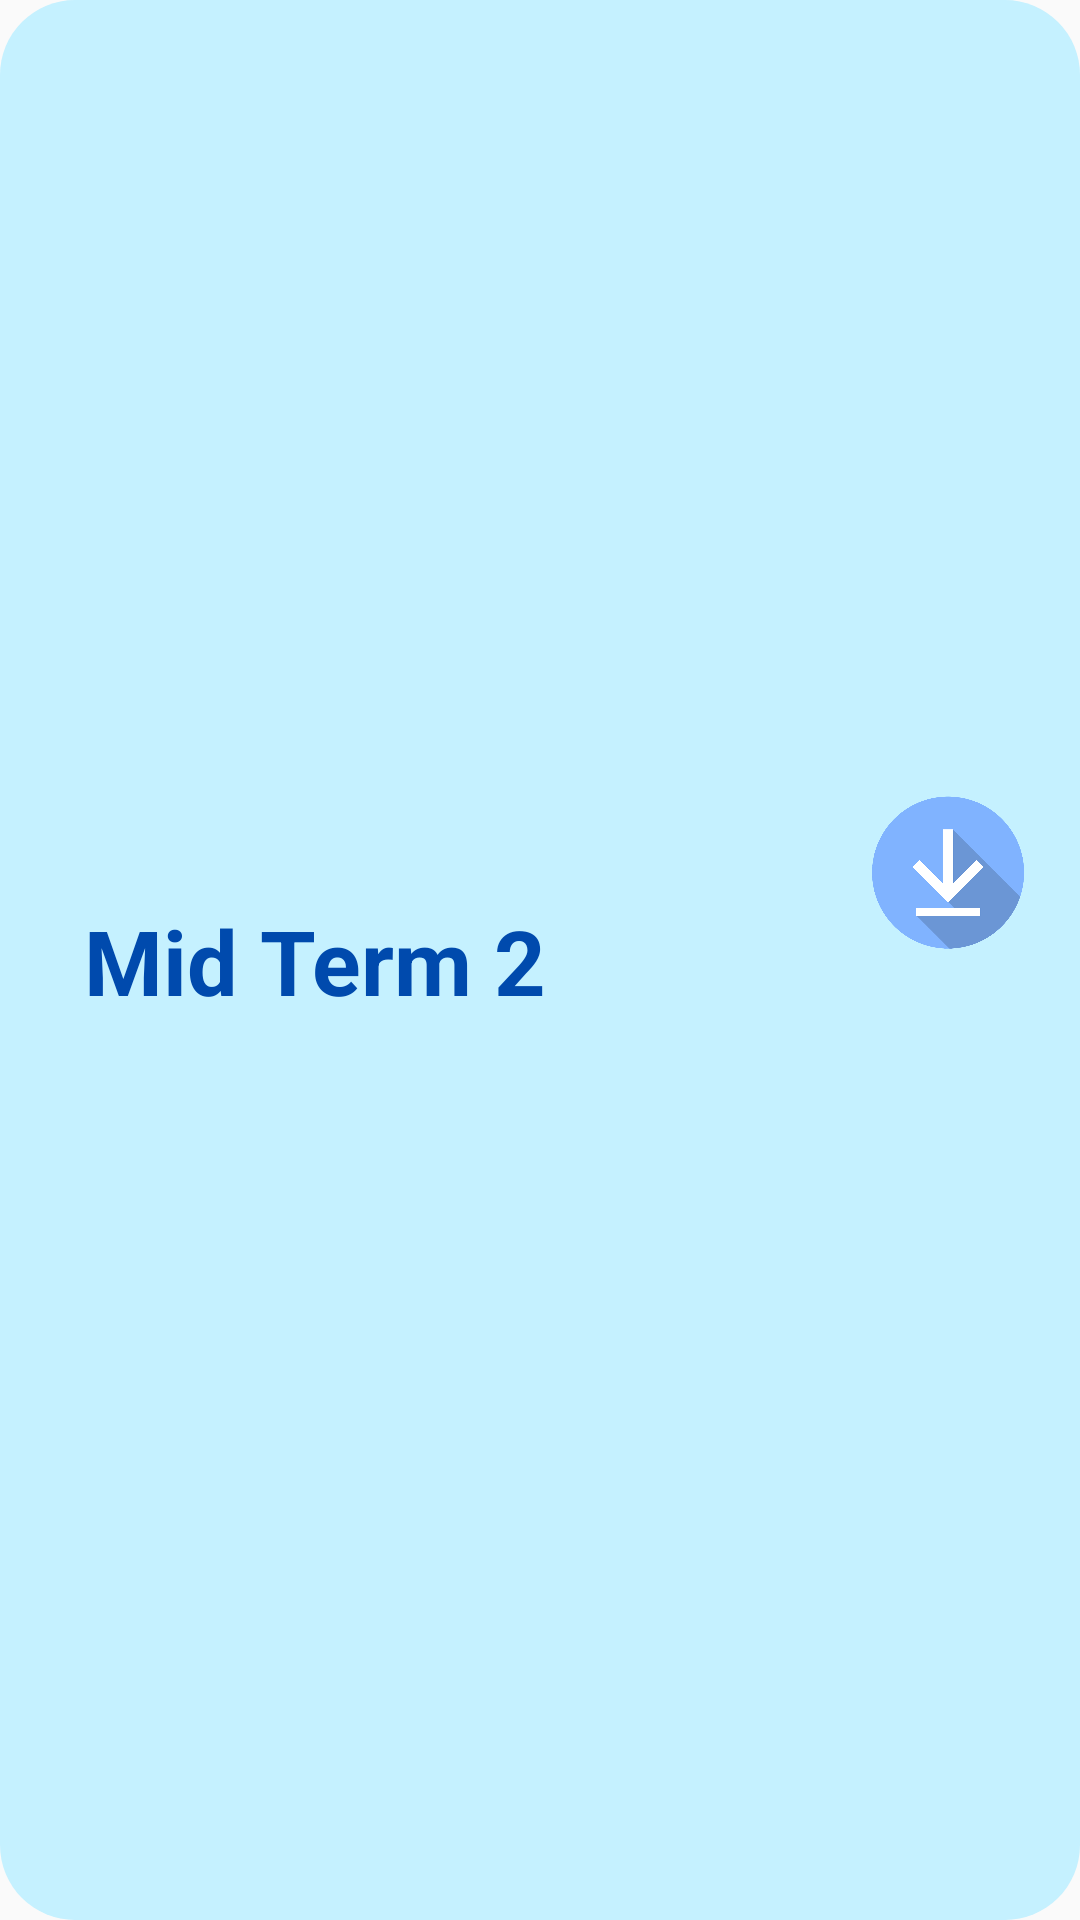

Icon bounding boxes for this 1080px x 1920px phone screenshot, format (x1, y1, x2, y2):
downloading: (872, 796, 1024, 949)
